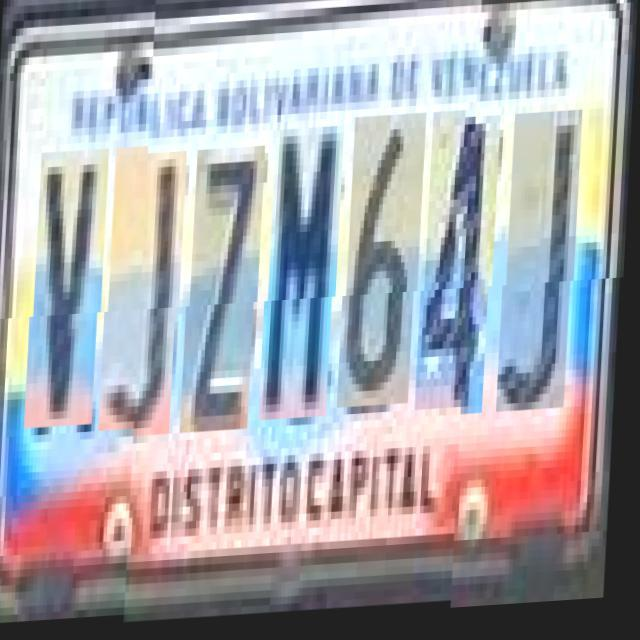4: (422, 114, 502, 416)
6: (345, 119, 428, 412)
J: (504, 110, 584, 412), (106, 153, 189, 440)
M: (266, 130, 346, 424)
V: (31, 158, 110, 436)
Z: (188, 149, 267, 436)
